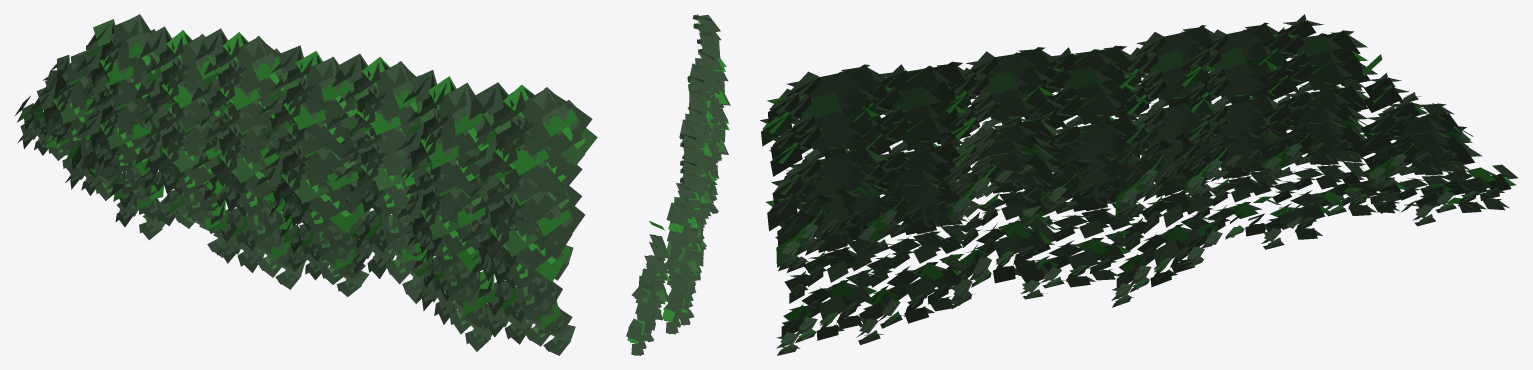
The model's file is Leaf_Wall_01_Mesh.fbx.
3 views of the same model, side by side, from view 1: azimuth 30°, elevation 25°; view 2: azimuth 150°, elevation 25°; view 3: azimuth 270°, elevation 25° (orthographic). The views are drawn at different scales.
Visible parts, largest first — view 1: Leaf_Wall_01_Mesh; view 2: Leaf_Wall_01_Mesh; view 3: Leaf_Wall_01_Mesh.
Part boxes in pixels (<box>): Leaf_Wall_01_Mesh: <box>14,14,597,355</box>; Leaf_Wall_01_Mesh: <box>626,14,730,355</box>; Leaf_Wall_01_Mesh: <box>760,14,1518,355</box>.
Bounding box in the file's own units: 789 × 806 × 1852.
